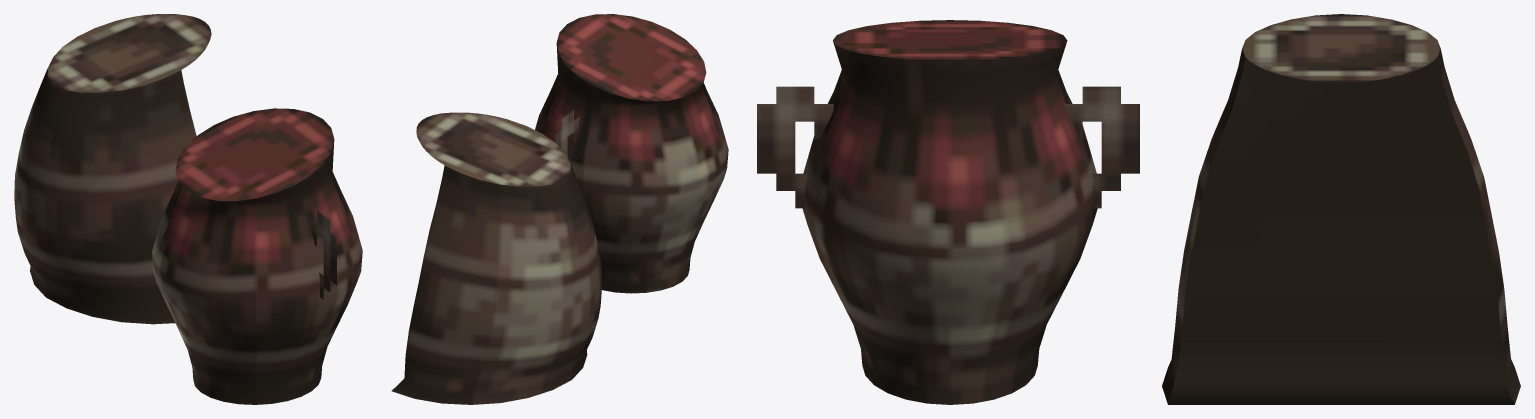
The model's file is ObjMD_Desert_Bottle_A_02.FBX.
3 renders of one model, left to right at view 1: azimuth 30°, elevation 25°; view 2: azimuth 150°, elevation 25°; view 3: azimuth 270°, elevation 25°, orthographic. The views are drawn at different scales.
Parts seen in each view (by area): view 1: ObjMD_Desert_Bottle_A_02, ObjMD_Desert_Bottle_A_03; view 2: ObjMD_Desert_Bottle_A_03, ObjMD_Desert_Bottle_A_02; view 3: ObjMD_Desert_Bottle_A_03, ObjMD_Desert_Bottle_A_02.
Part boxes in pixels (box(x1,y1,x2,y2)): ObjMD_Desert_Bottle_A_02: box(151, 108, 362, 404); ObjMD_Desert_Bottle_A_03: box(14, 14, 211, 324); ObjMD_Desert_Bottle_A_03: box(391, 112, 601, 404); ObjMD_Desert_Bottle_A_02: box(535, 14, 728, 293); ObjMD_Desert_Bottle_A_03: box(1162, 14, 1520, 404); ObjMD_Desert_Bottle_A_02: box(757, 20, 1139, 404).
Bounding box in the file's own units: 101 × 126 × 249.
